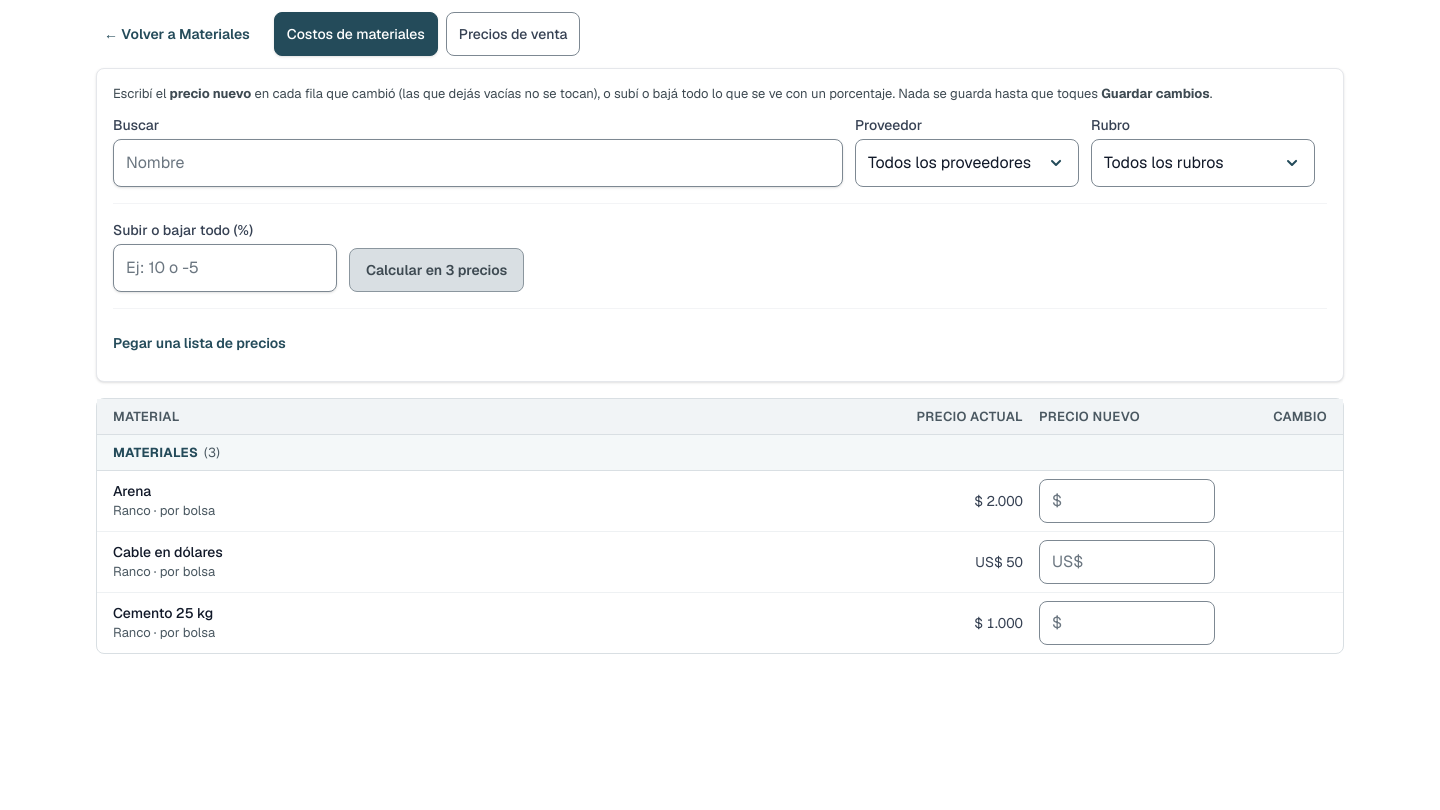
Test: Actualizar precios › un precio ilegible bloquea el guardado y se marca
The width and height of the screenshot is (1440, 810).
Type "abc" into the field named "Precio nuevo de Arena" at (1127, 501), box [1039, 479, 1215, 523]
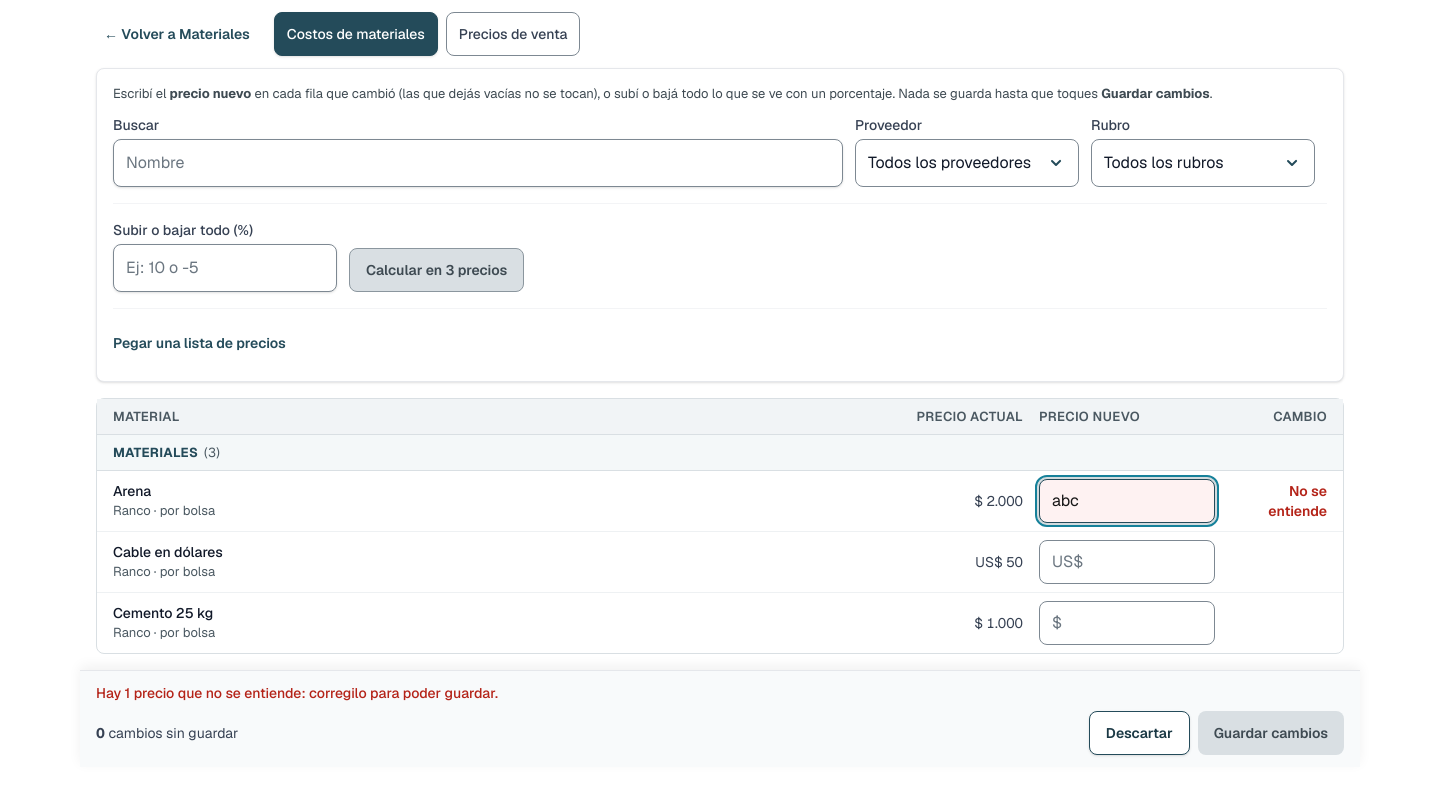
Now the text "No se entiende" is shown, box [1268, 482, 1327, 520]
Now the button "Guardar cambios" is disabled, box [1198, 711, 1344, 755]
